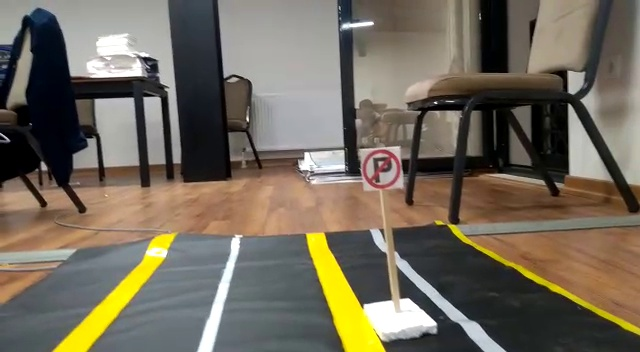park_yapilmaz: (358, 148, 403, 192)
